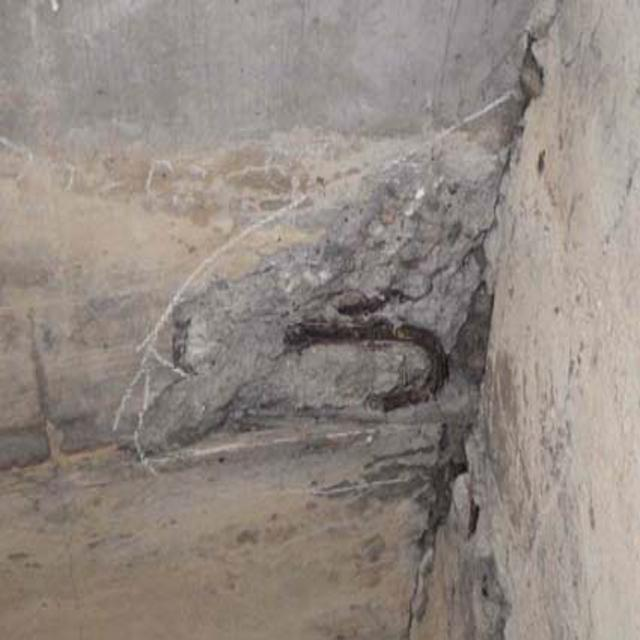spalling: (158, 169, 533, 467)
